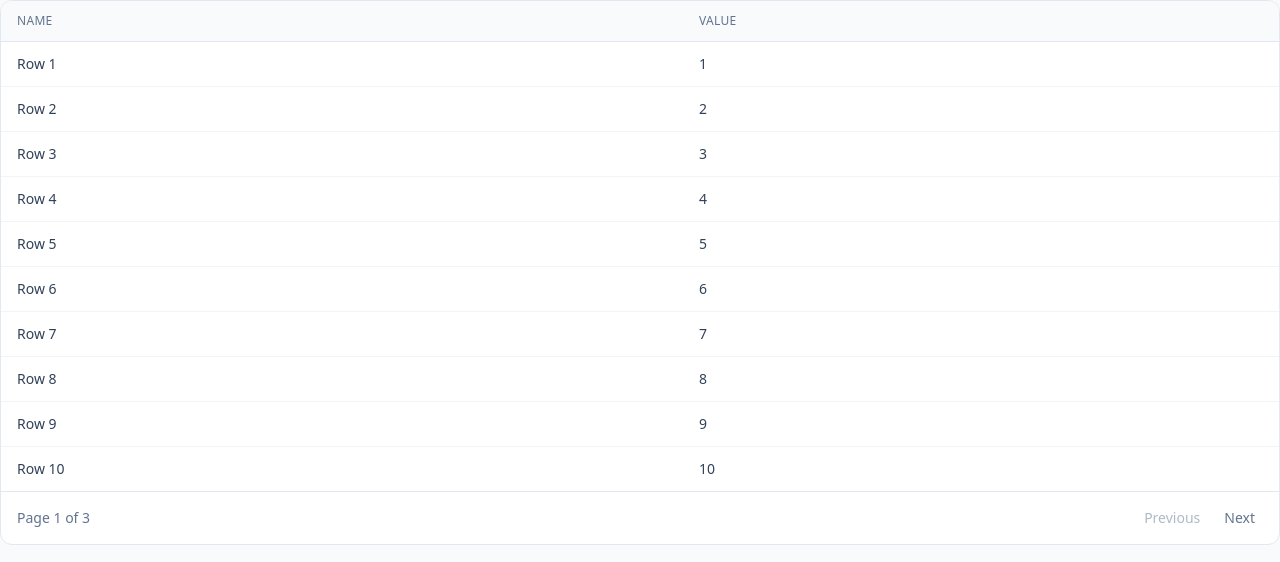
Scenario: DataTable › navigates between pages
Click the button "Next": point(1240, 518) [1216,504,1263,532]
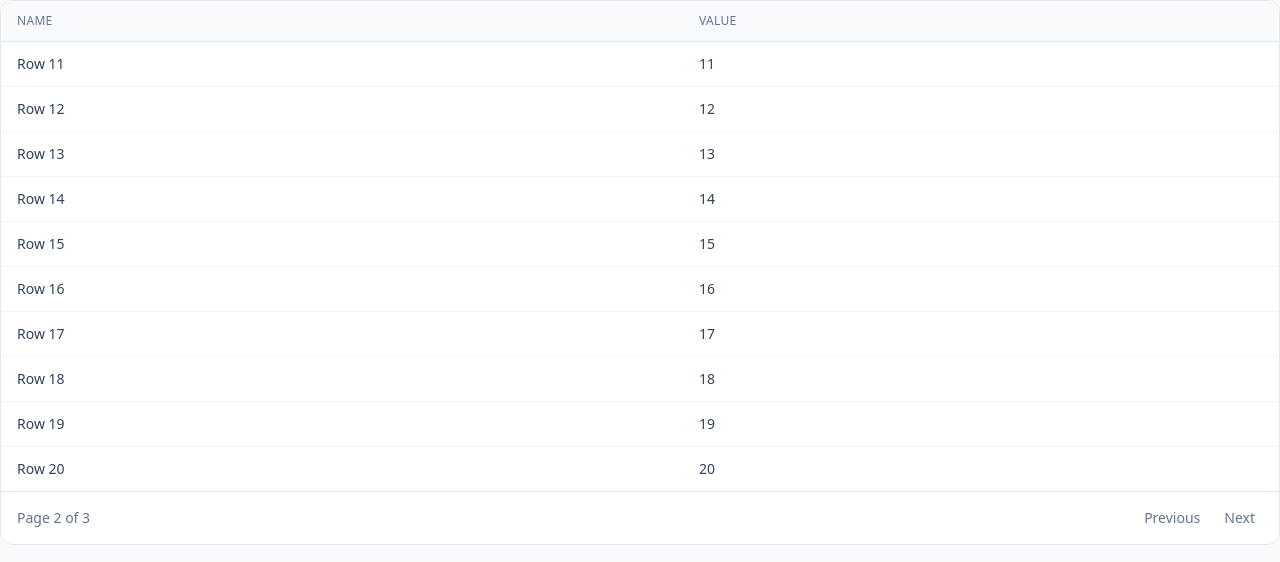
Now the text "Page 2 of 3" is shown, box [17,508,90,528]
Now the text "Row 11" is shown, box [1,42,683,86]
Click the button "Previous": point(1172, 518) [1136,504,1208,532]
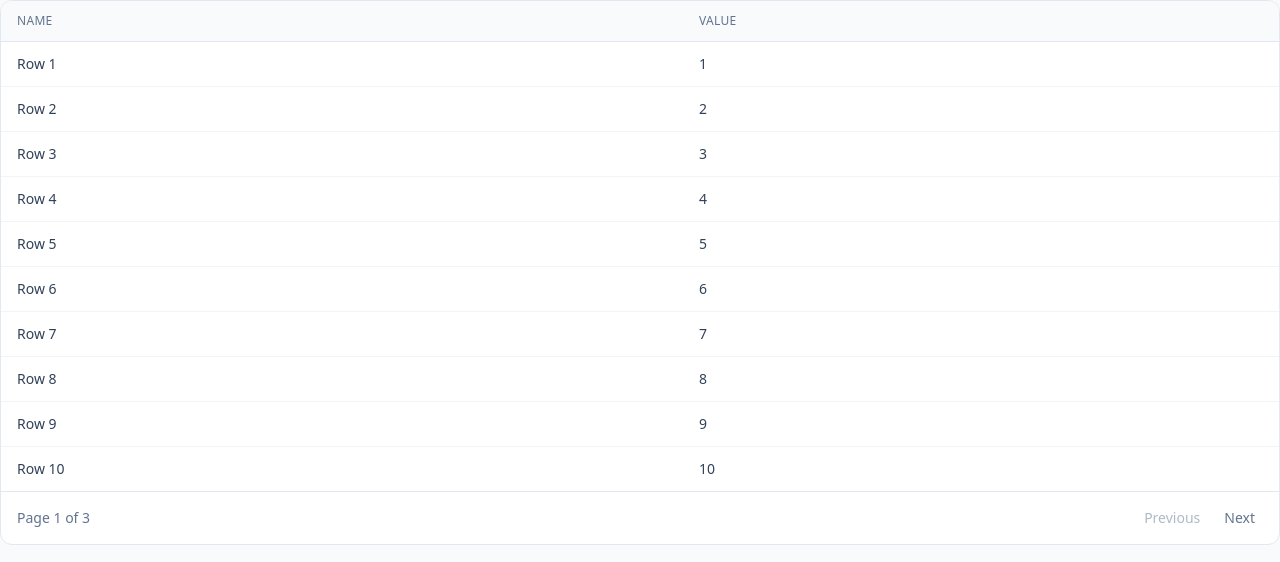
Expected: the text "Row 1" is shown, [1,42,683,86]
Now the text "Page 1 of 3" is shown, box [17,508,90,528]
